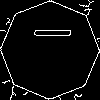I: (25, 25, 71, 40)
